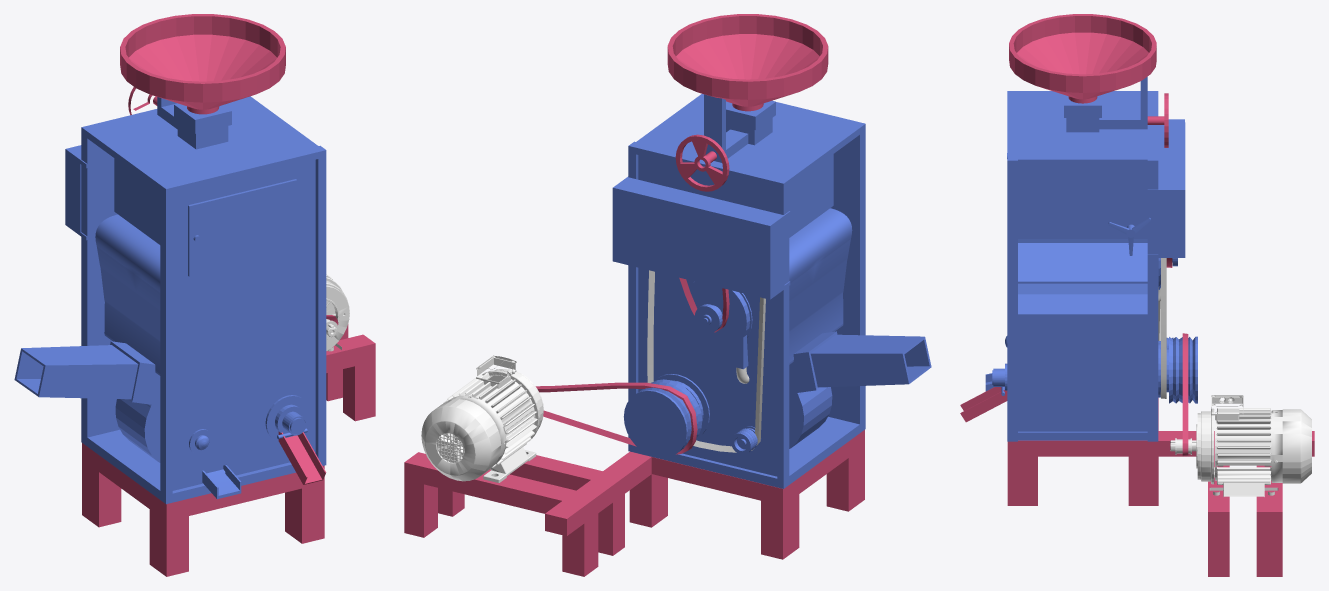
3 views of the same model, side by side, from view 1: azimuth 30°, elevation 25°; view 2: azimuth 150°, elevation 25°; view 3: azimuth 270°, elevation 25° (orthographic). The views are drawn at different scales.
Visible parts, largest first — view 1: curso, cono base, Body; view 2: curso, cono base, Body; view 3: curso, cono base, Body.
Part boxes in pixels (<box>): curso: <box>14,96,326,504</box>; cono base: <box>82,14,375,576</box>; Body: <box>326,274,349,351</box>; curso: <box>612,94,931,488</box>; cono base: <box>404,14,864,576</box>; Body: <box>421,270,765,482</box>; curso: <box>985,77,1197,441</box>; cono base: <box>960,14,1314,576</box>; Body: <box>1158,258,1311,496</box>.
Bounding box in the file's own units: 530 × 577 × 434.
